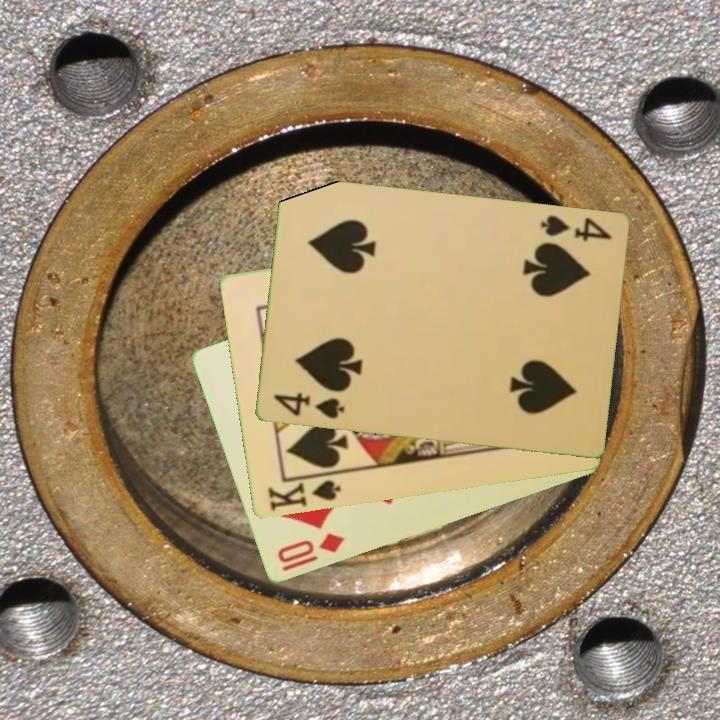10d: (273, 530, 348, 575)
4s: (269, 389, 347, 422), (536, 212, 614, 244)
Ks: (264, 476, 344, 514)
